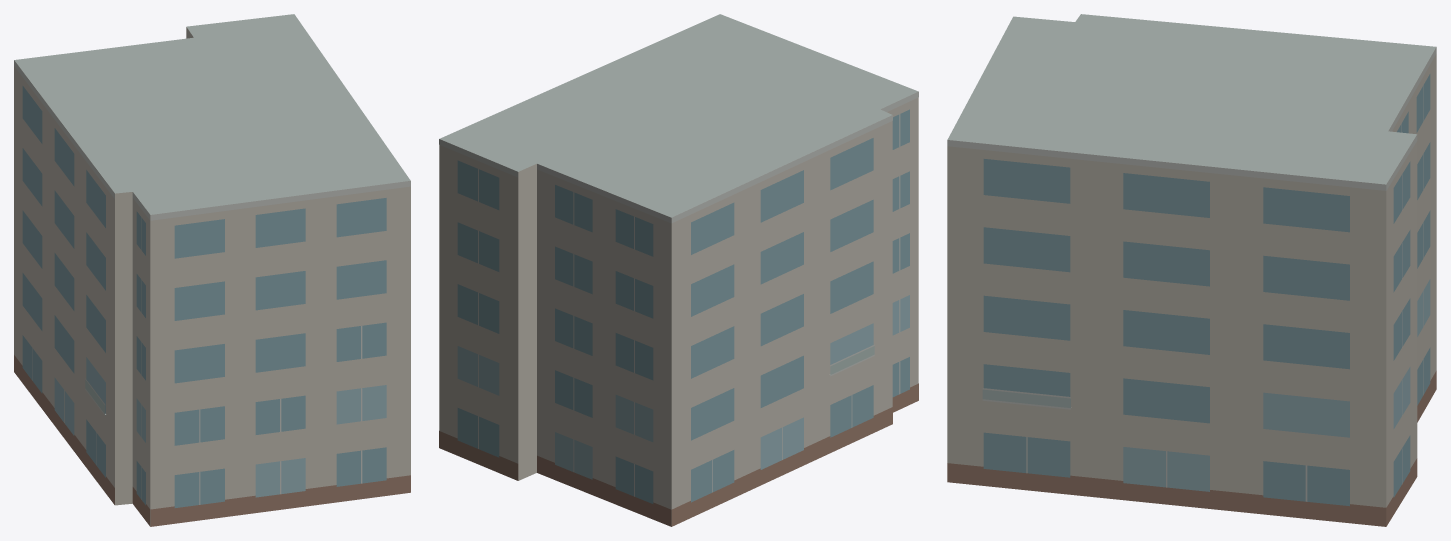
File: survey-upis-32947602.glb
3 views of the same model, side by side, from view 1: azimuth 30°, elevation 25°; view 2: azimuth 150°, elevation 25°; view 3: azimuth 270°, elevation 25° (orthographic). The views are drawn at different scales.
Parts seen in each view (by area): view 1: survey-upis-32947602.tmp; view 2: survey-upis-32947602.tmp; view 3: survey-upis-32947602.tmp.
Boxes of the visible parts, x1,y1,x2,y2 form: survey-upis-32947602.tmp: (14, 14, 410, 526); survey-upis-32947602.tmp: (439, 14, 918, 526); survey-upis-32947602.tmp: (947, 14, 1436, 526).
Bounding box in the file's own units: 14.01 × 13.1 × 16.98.
